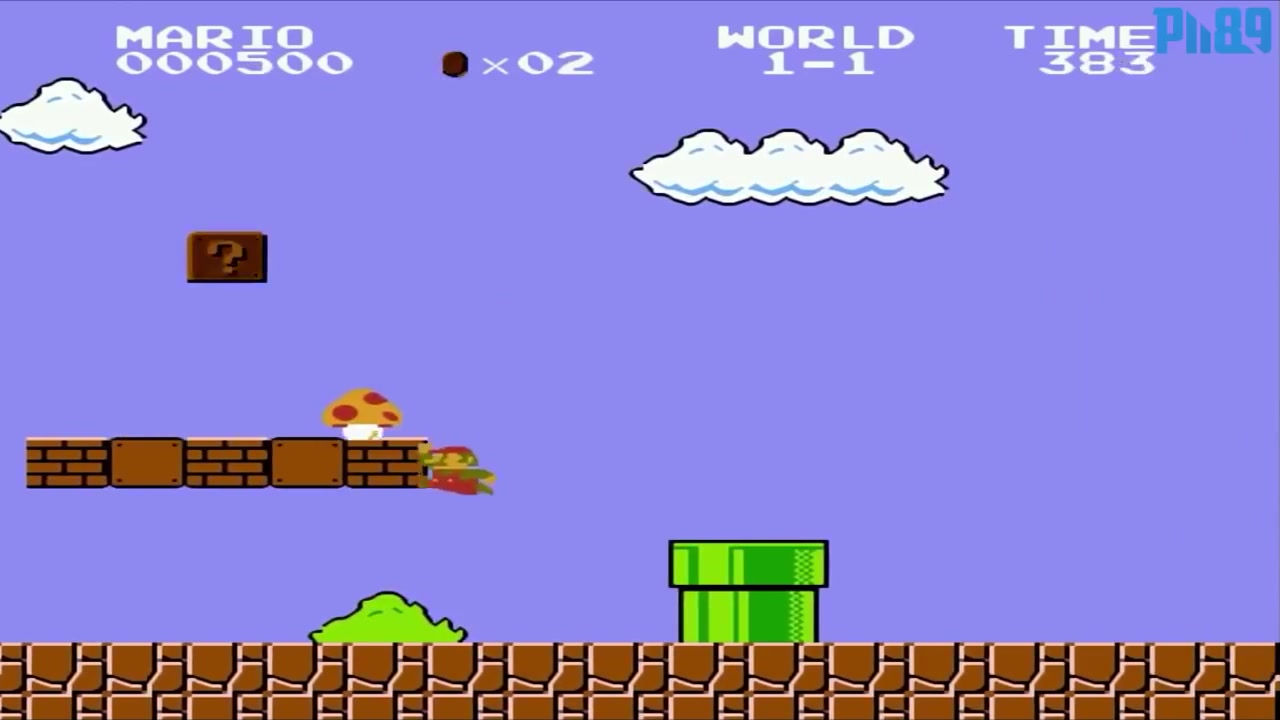mario: (409, 431, 505, 508)
